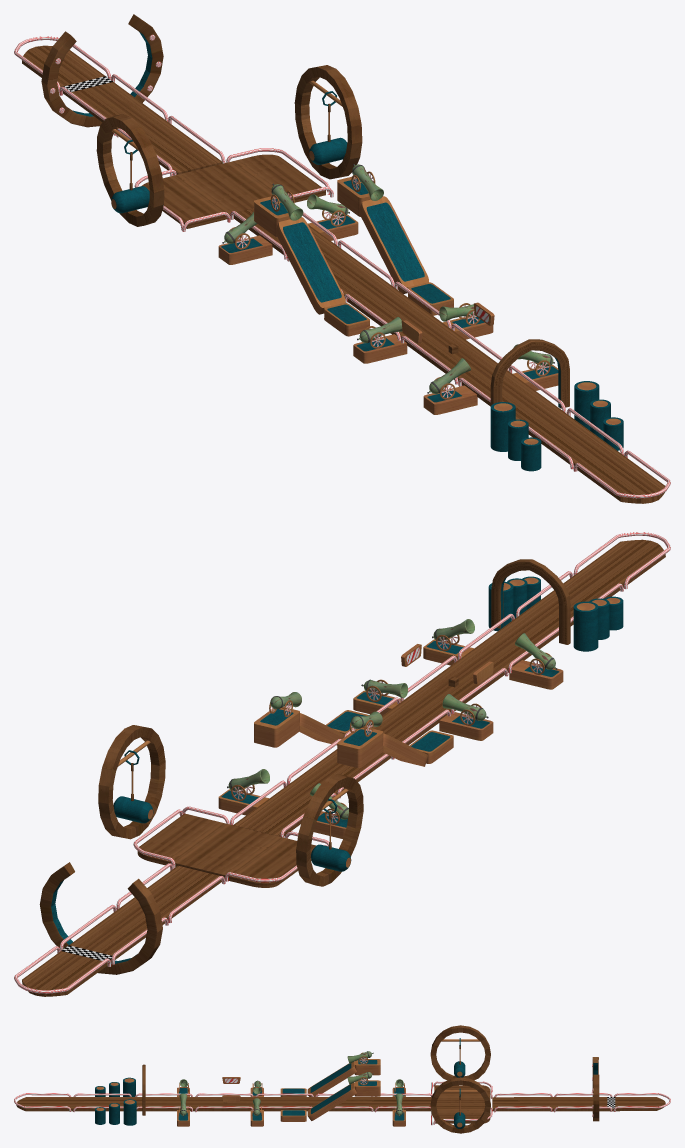
The model's file is back grundon.fbx.
3 renders of one model, top to bottom at view 1: azimuth 30°, elevation 25°; view 2: azimuth 150°, elevation 25°; view 3: azimuth 270°, elevation 25°, orthographic. The views are drawn at different scales.
Visible parts, largest first — view 1: Plane, Cube.079, Plane.002, Cylinder.079, Cylinder.072, Cube.042, Cube.041, Cylinder.089, Plane.001, Cube.040, Cube, Cube.061 (+10 smaller); view 2: Plane, Cube.079, Plane.002, Cylinder.079, Cylinder.072, Cylinder.089, Plane.001, Cube.044, Cube.043, Cylinder.011, Cube.021, Cube (+10 smaller); view 3: Plane, Plane.002, Cube.079, Cylinder.079, Cylinder.072, Cube.041, Cube.042, Cylinder.089, Cube.043, Cube.044, Cylinder.014, Cylinder.088 (+10 smaller).
Part boxes in pixels (x1=…): Plane: x1=234, y1=208, x2=664, y2=503; Cube.079: x1=141, y1=154, x2=325, y2=228; Plane.002: x1=22, y1=45, x2=222, y2=174; Cylinder.079: x1=294, y1=65, x2=362, y2=179; Cylinder.072: x1=96, y1=114, x2=164, y2=226; Cube.042: x1=275, y1=217, x2=345, y2=314; Cube.041: x1=359, y1=196, x2=428, y2=293; Cylinder.089: x1=41, y1=14, x2=163, y2=127; Plane.001: x1=490, y1=339, x2=569, y2=408; Cube.040: x1=324, y1=303, x2=369, y2=336; Cube: x1=423, y1=385, x2=477, y2=414; Cube.061: x1=218, y1=235, x2=272, y2=264; Plane: x1=233, y1=539, x2=665, y2=836; Cube.079: x1=137, y1=813, x2=315, y2=887; Plane.002: x1=22, y1=865, x2=221, y2=996; Cylinder.079: x1=98, y1=725, x2=165, y2=839; Cylinder.072: x1=296, y1=774, x2=363, y2=886; Cylinder.089: x1=39, y1=862, x2=162, y2=974; Plane.001: x1=491, y1=559, x2=570, y2=644; Cube.044: x1=337, y1=727, x2=383, y2=767; Cube.043: x1=254, y1=708, x2=299, y2=747; Cylinder.011: x1=573, y1=601, x2=598, y2=651; Cube.021: x1=439, y1=712, x2=493, y2=740; Cube: x1=509, y1=660, x2=563, y2=689; Plane: x1=16, y1=1097, x2=431, y2=1111; Plane.002: x1=492, y1=1097, x2=665, y2=1111; Cube.079: x1=434, y1=1085, x2=490, y2=1123; Cylinder.079: x1=430, y1=1077, x2=490, y2=1133; Cylinder.072: x1=430, y1=1025, x2=490, y2=1080; Cube.041: x1=307, y1=1082, x2=356, y2=1120; Cube.042: x1=307, y1=1061, x2=356, y2=1096; Cylinder.089: x1=592, y1=1057, x2=599, y2=1121; Cube.043: x1=354, y1=1080, x2=380, y2=1096; Cube.044: x1=354, y1=1059, x2=380, y2=1075; Cylinder.014: x1=123, y1=1099, x2=136, y2=1125; Cylinder.088: x1=613, y1=1093, x2=670, y2=1111.
Size of the model in its own units: 1034 by 524 by 4798.
8 materials, 5 textured.
